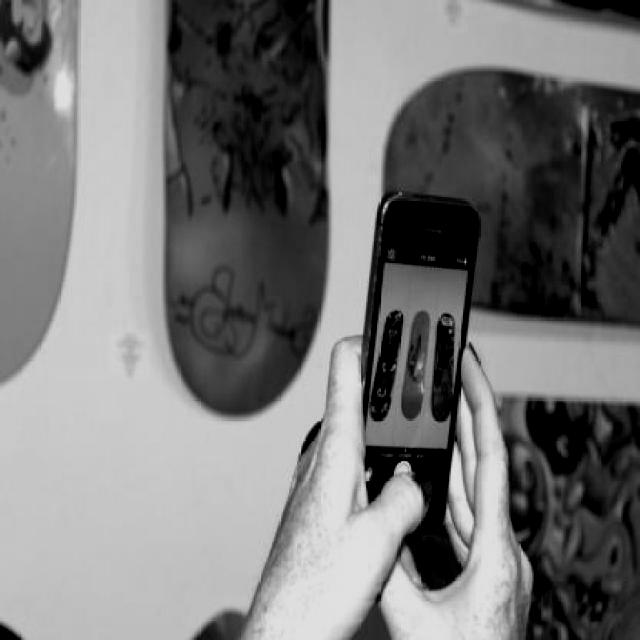fake: (360, 187, 480, 538)
